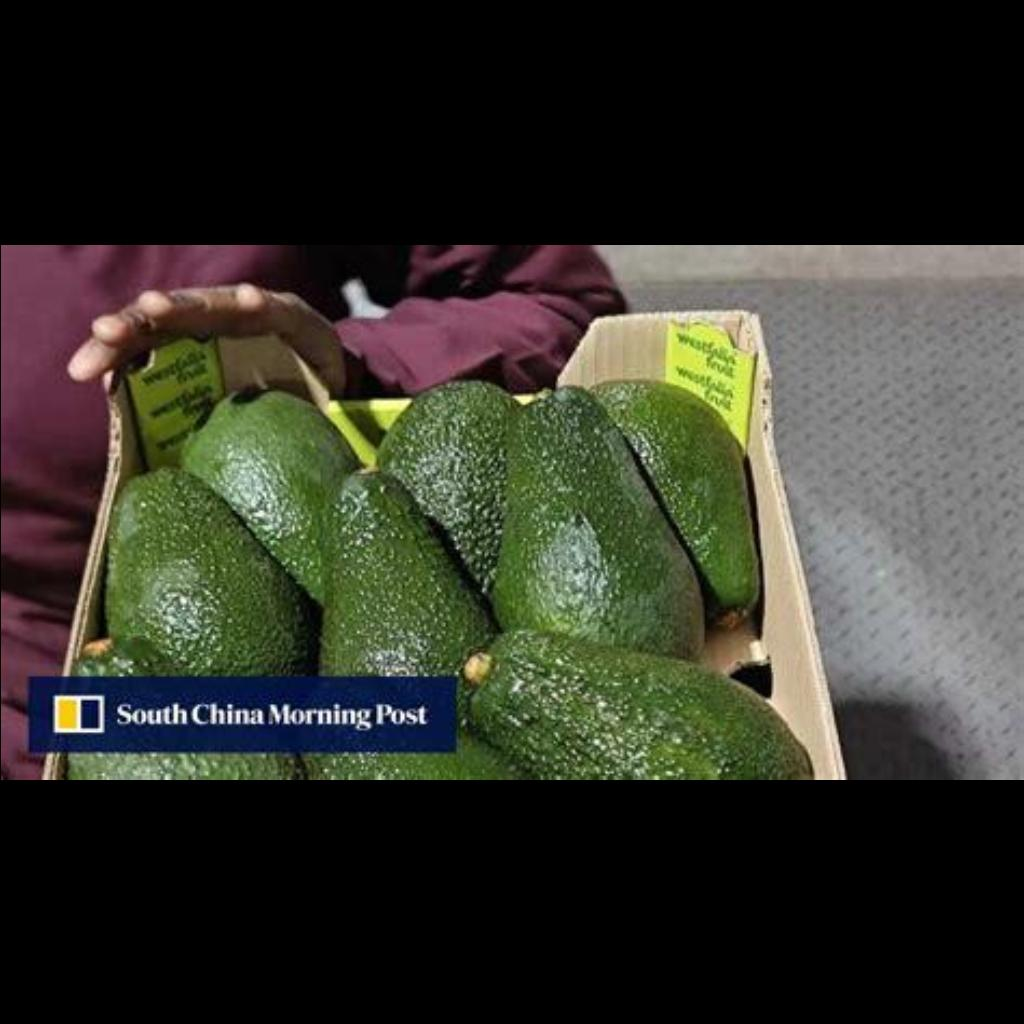Healthy: (485, 381, 757, 655), (298, 481, 476, 673), (117, 474, 277, 660), (179, 392, 343, 488)
